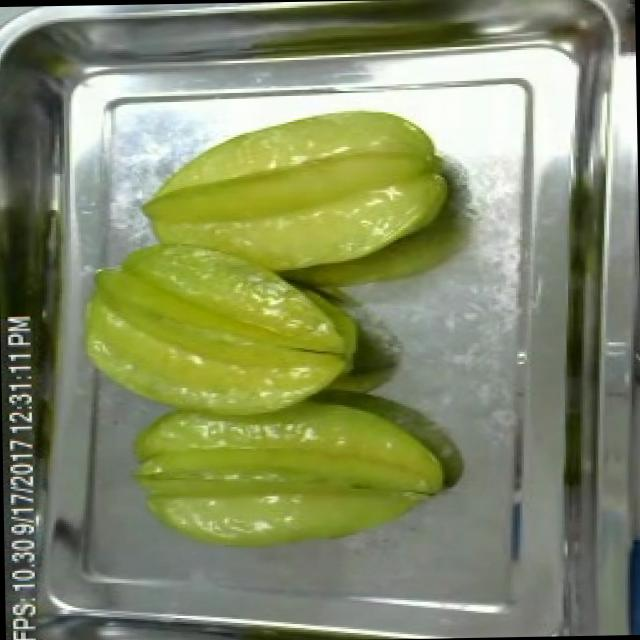fruit: (67, 199, 378, 524), (130, 98, 466, 288)
